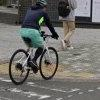bicycles: (9, 30, 60, 86)
